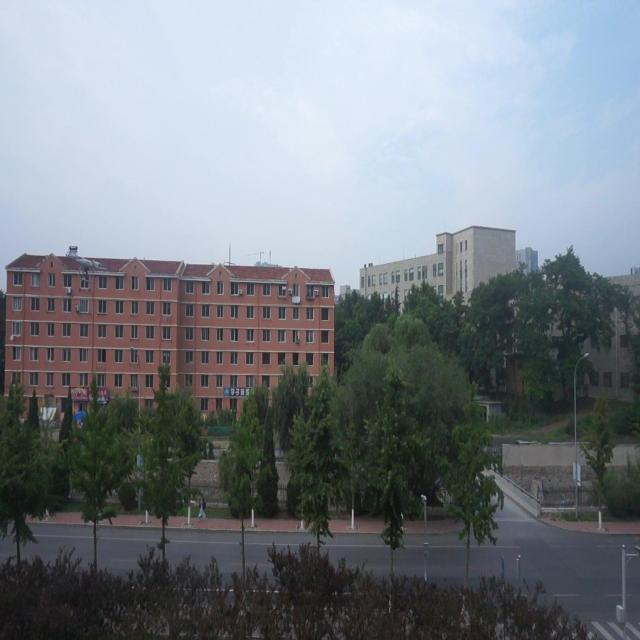drone: (74, 252, 103, 281)
